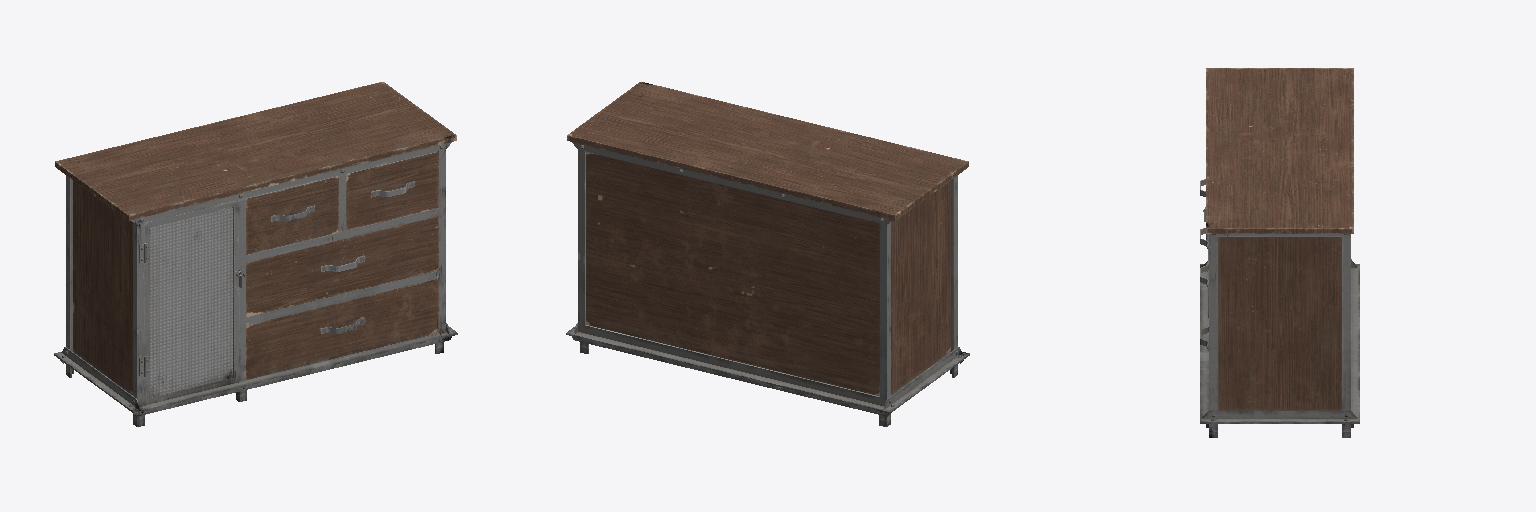
3 renders of one model, left to right at view 1: azimuth 30°, elevation 25°; view 2: azimuth 150°, elevation 25°; view 3: azimuth 270°, elevation 25°, orthographic.
Parts seen in each view (by area): view 1: WoodenTable_03_body_Cube.002, WoodenTable_03_door_Cube.005, WoodenTable_03_drawer03_Cube.012, WoodenTable_03_drawer04_Cube.011, WoodenTable_03_drawer02_Cube.006, WoodenTable_03_drawer01_Cube.013; view 2: WoodenTable_03_body_Cube.002; view 3: WoodenTable_03_body_Cube.002.
Part boxes in pixels (left/top/right/bottom): WoodenTable_03_body_Cube.002: left=54, top=82, right=457, bottom=426; WoodenTable_03_door_Cube.005: left=144, top=200, right=244, bottom=404; WoodenTable_03_drawer03_Cube.012: left=246, top=216, right=438, bottom=316; WoodenTable_03_drawer04_Cube.011: left=246, top=279, right=438, bottom=379; WoodenTable_03_drawer02_Cube.006: left=346, top=152, right=438, bottom=230; WoodenTable_03_drawer01_Cube.013: left=246, top=176, right=338, bottom=254; WoodenTable_03_body_Cube.002: left=566, top=82, right=969, bottom=426; WoodenTable_03_body_Cube.002: left=1200, top=68, right=1359, bottom=437.
Size of the model in its own units: 1.33 by 0.8301 by 0.5617.
Materials: 1 (1 with a texture image).